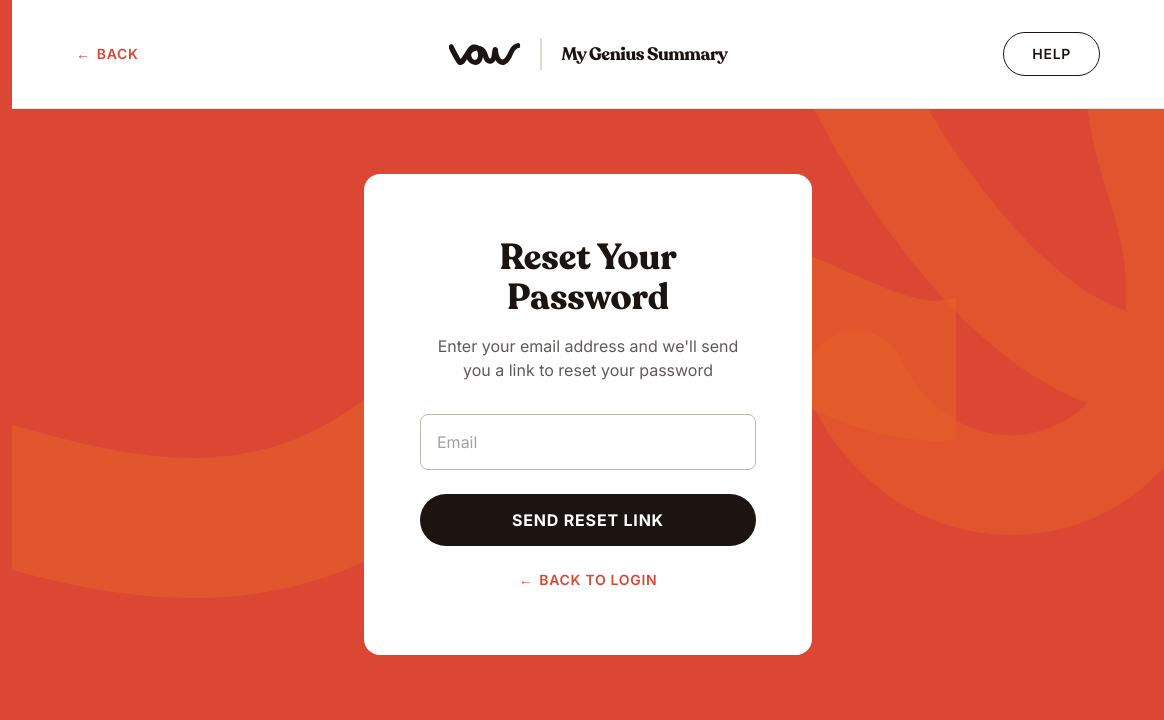
Scenario: ForgotPasswordPage › shows success state after sending
The image size is (1164, 720).
Type "friend@example.com" into the field labelled "Email" at (588, 442), box [420,414,756,470]
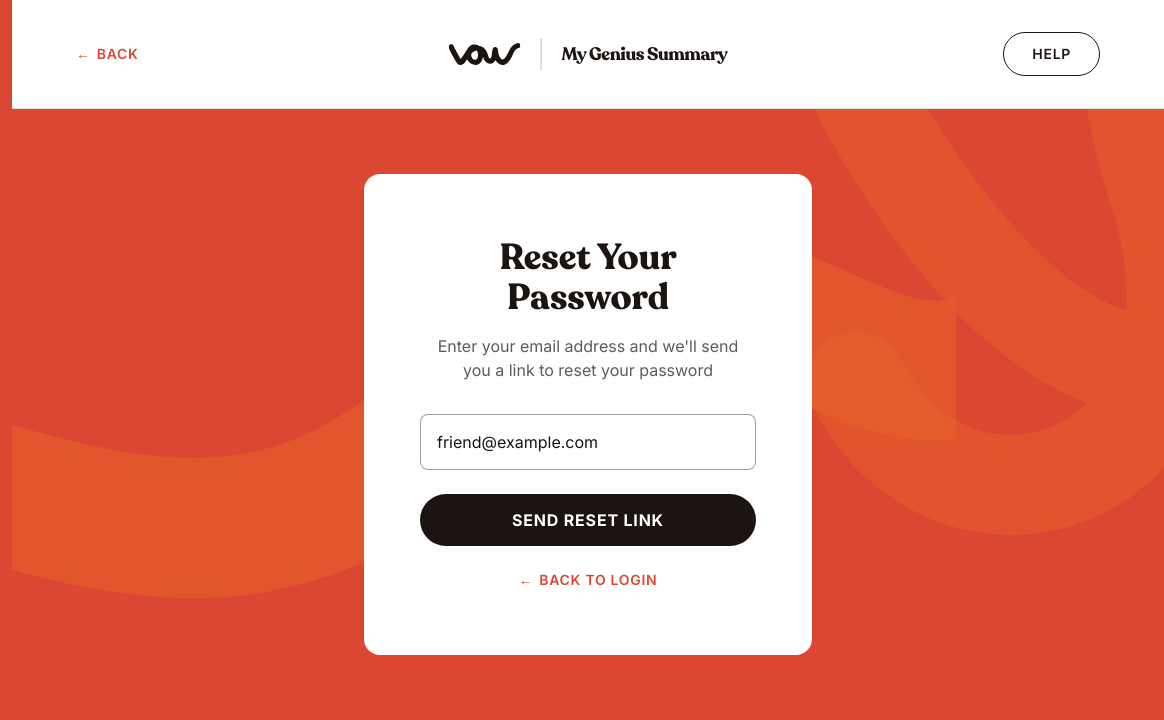
Click the button "Send Reset Link" at (588, 520), box [420,494,756,546]
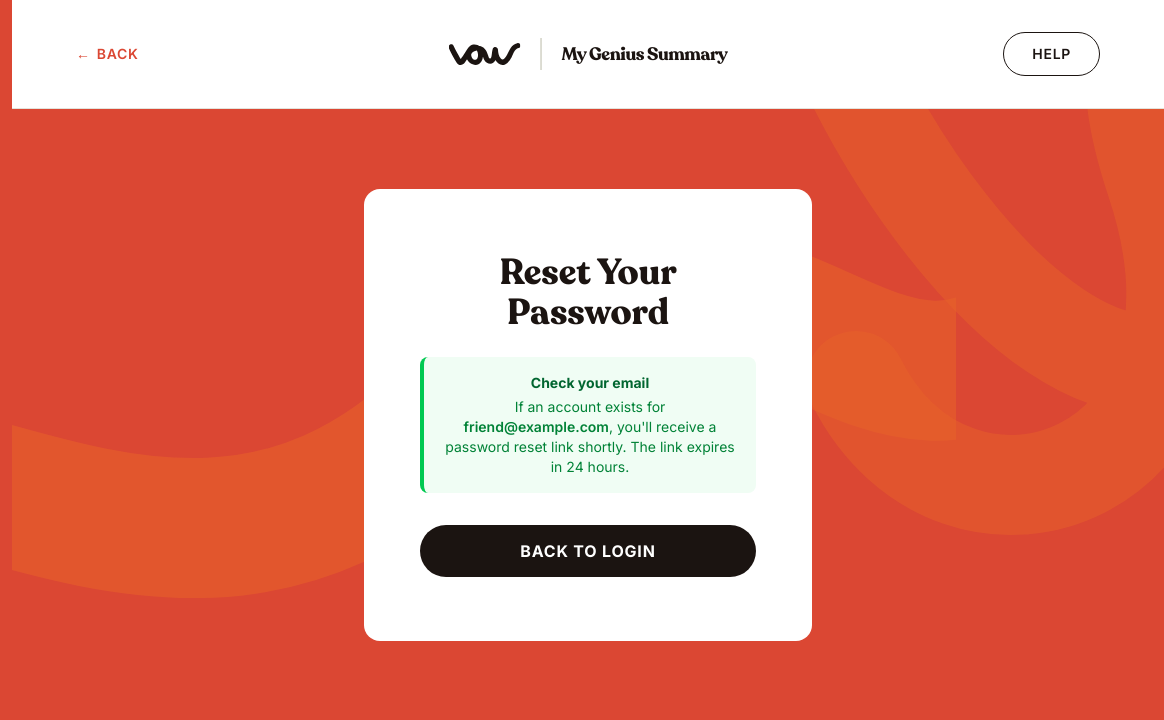
expect the text "Check your email" is shown: met, box [531,374,649,390]
expect the text "friend@example.com" is shown: met, box [464,418,609,434]
